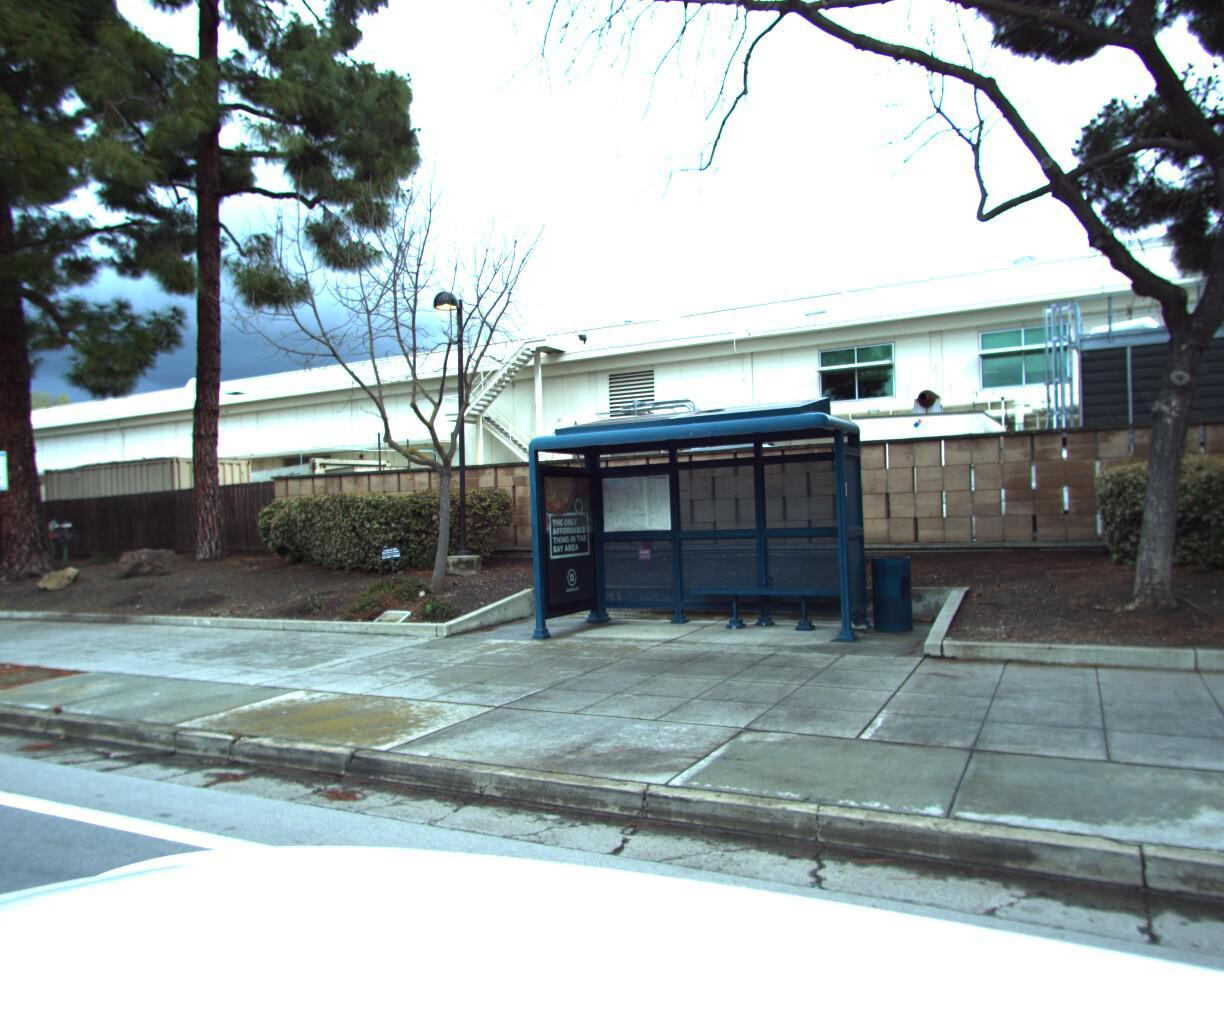truck: (238, 424, 466, 556)
